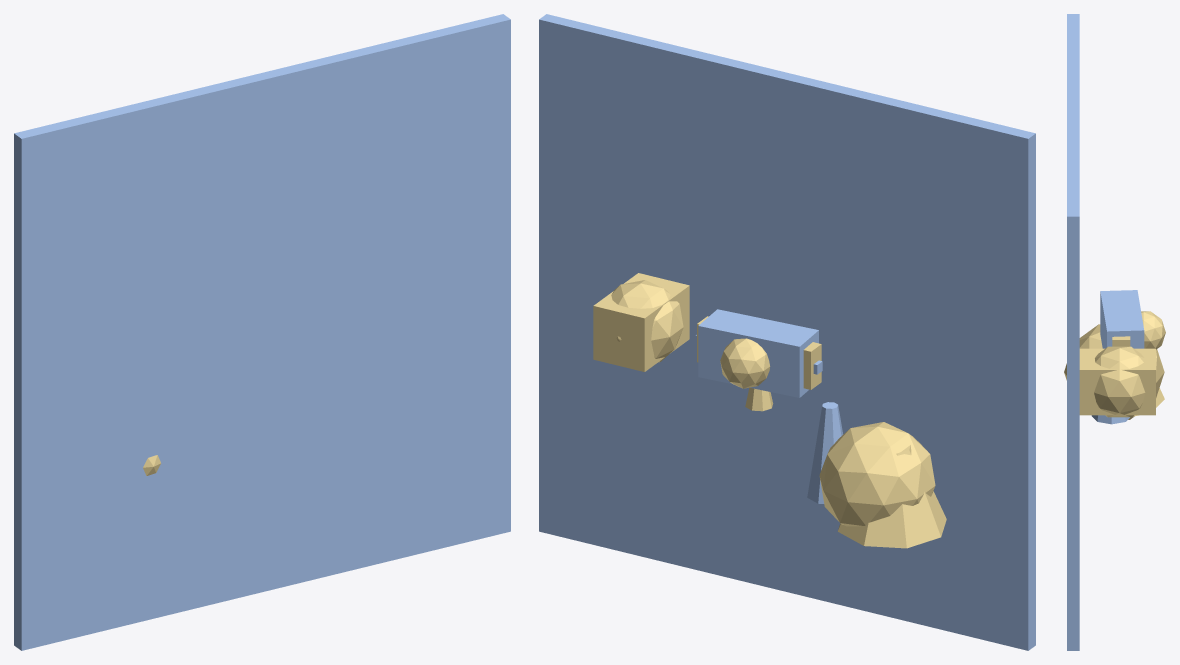
The model's file is neon-shmup-kit.glb.
The picture shows the model from 3 angles, left to right: view 1: azimuth 30°, elevation 25°; view 2: azimuth 150°, elevation 25°; view 3: azimuth 270°, elevation 25°; orthographic projection. The views are drawn at different scales.
Parts seen in each view (by area): view 1: ENVIRONMENT_GROUND; view 2: ENVIRONMENT_GROUND, PROFILE_ENVIRONMENT_DETAIL, PLAYER_BODY, PROFILE_OBSTACLE_DETAIL, ENVIRONMENT_LANDMARK, OBSTACLE, PLAYER_CORE, PROFILE_ENVIRONMENT_SPIRE, PROFILE_PLAYER_DETAIL; view 3: ENVIRONMENT_GROUND, OBSTACLE, PROFILE_OBSTACLE_DETAIL, PLAYER_BODY, PROFILE_ENVIRONMENT_DETAIL, PLAYER_CORE, PROFILE_ENVIRONMENT_SPIRE, PROFILE_PLAYER_DETAIL.
Part boxes in pixels (x1,y1,x2,y2): ENVIRONMENT_GROUND: (14,14,510,650); ENVIRONMENT_GROUND: (539,14,1035,650); PROFILE_ENVIRONMENT_DETAIL: (819,422,935,526); PLAYER_BODY: (698,309,818,397); PROFILE_OBSTACLE_DETAIL: (593,273,689,371); ENVIRONMENT_LANDMARK: (837,445,946,548); OBSTACLE: (611,280,683,362); PLAYER_CORE: (720,338,770,388); PROFILE_ENVIRONMENT_SPIRE: (807,402,843,503); PROFILE_PLAYER_DETAIL: (697,316,821,389); ENVIRONMENT_GROUND: (1067,14,1079,650); OBSTACLE: (1094,346,1156,417); PROFILE_OBSTACLE_DETAIL: (1079,348,1155,415); PLAYER_BODY: (1100,290,1144,348); PROFILE_ENVIRONMENT_DETAIL: (1064,324,1164,419); PLAYER_CORE: (1141,311,1165,349); PROFILE_ENVIRONMENT_SPIRE: (1091,415,1129,424); PROFILE_PLAYER_DETAIL: (1112,336,1130,346).
Size of what is drawn, in the model's own units: 9 by 9 by 1.91.
